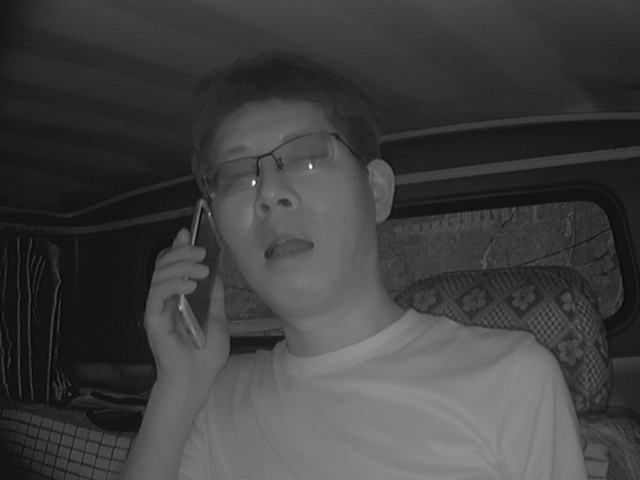hand: (139, 227, 239, 397)
